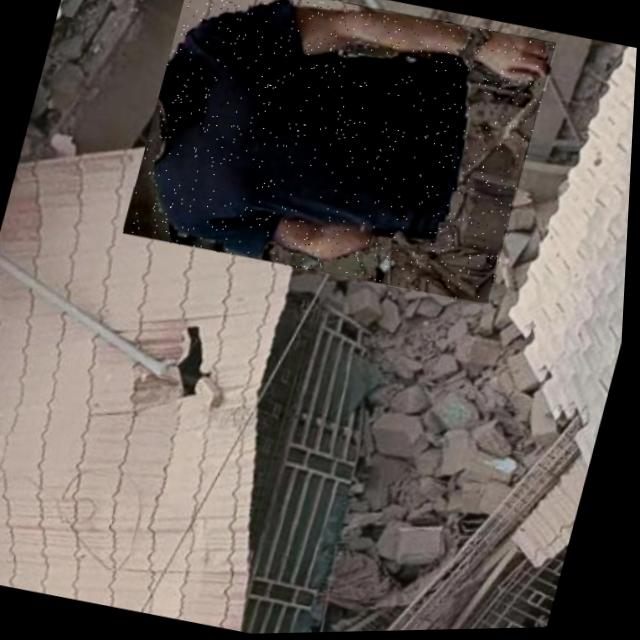Person in Rubble: (122, 0, 560, 312)
